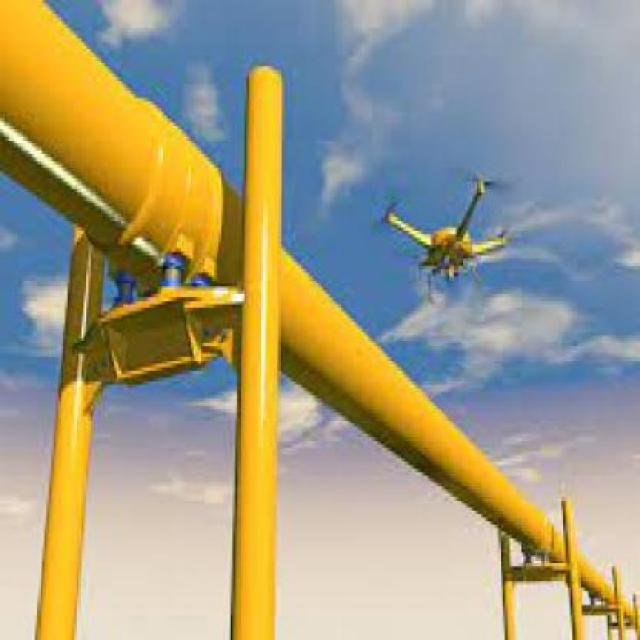gas: (1, 0, 638, 628)
